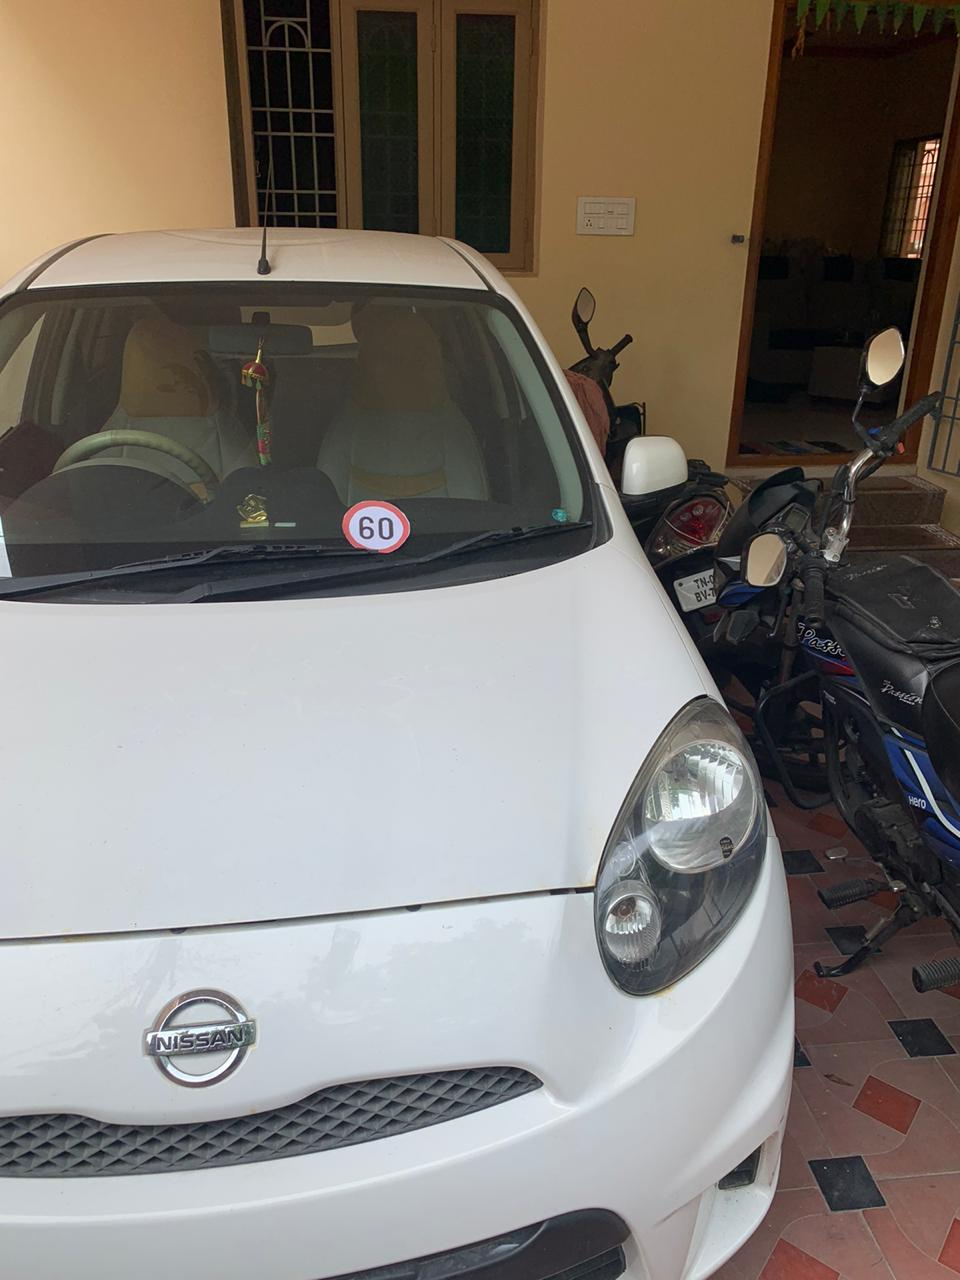SPEED LIMIT (60 KM/H): (324, 494, 422, 558)
